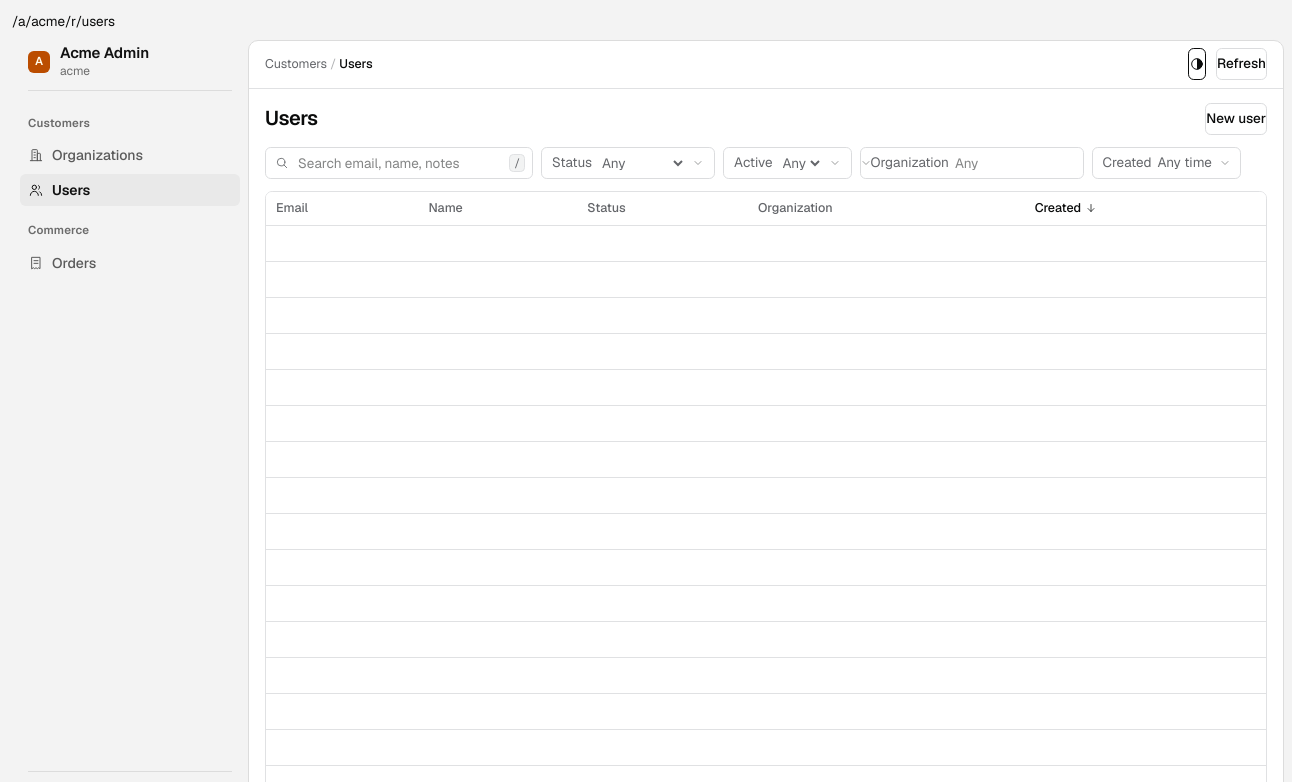
Scenario: the table page › sorts by the column whose header was pressed
The image size is (1292, 782).
Click the button "Email" at [292, 208], box [272,199,312,217]
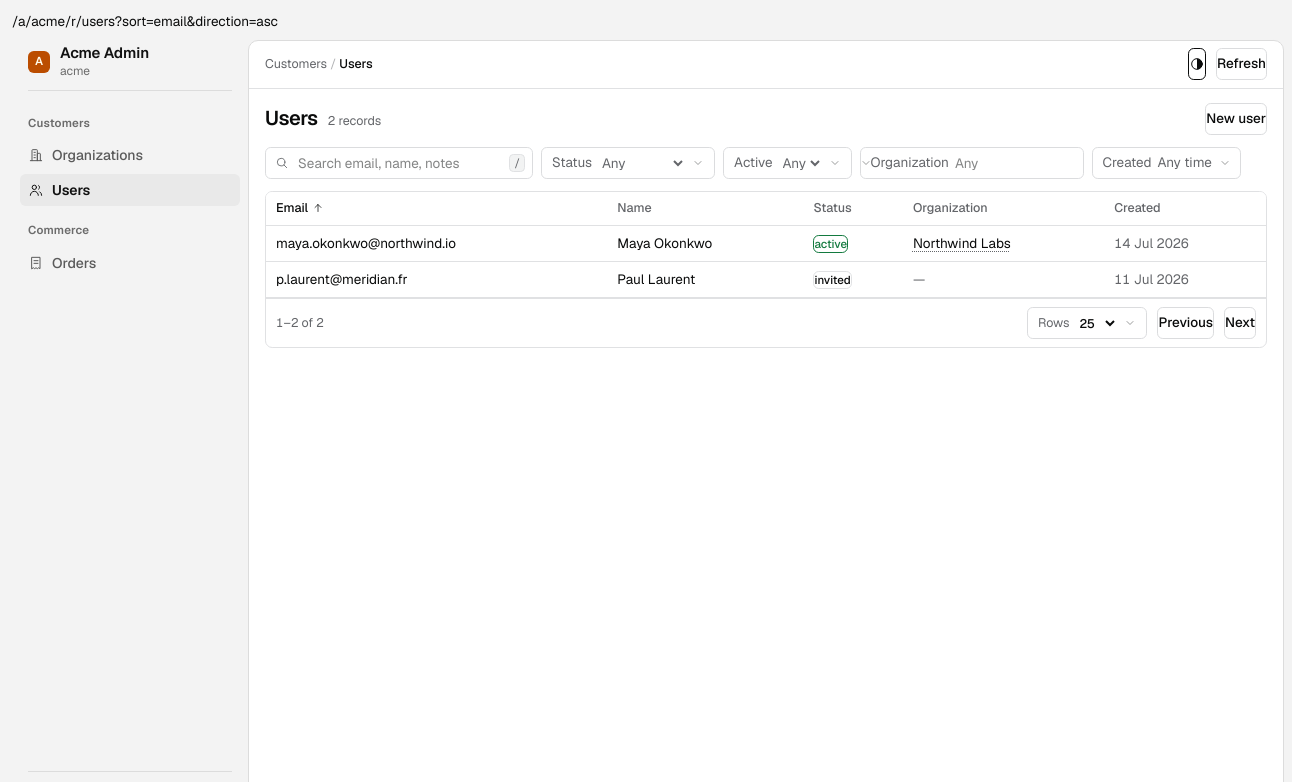
Result: the text with test id "url" reads "/a/acme/r/users?sort=email&direction=asc" at [12,12,278,30]
